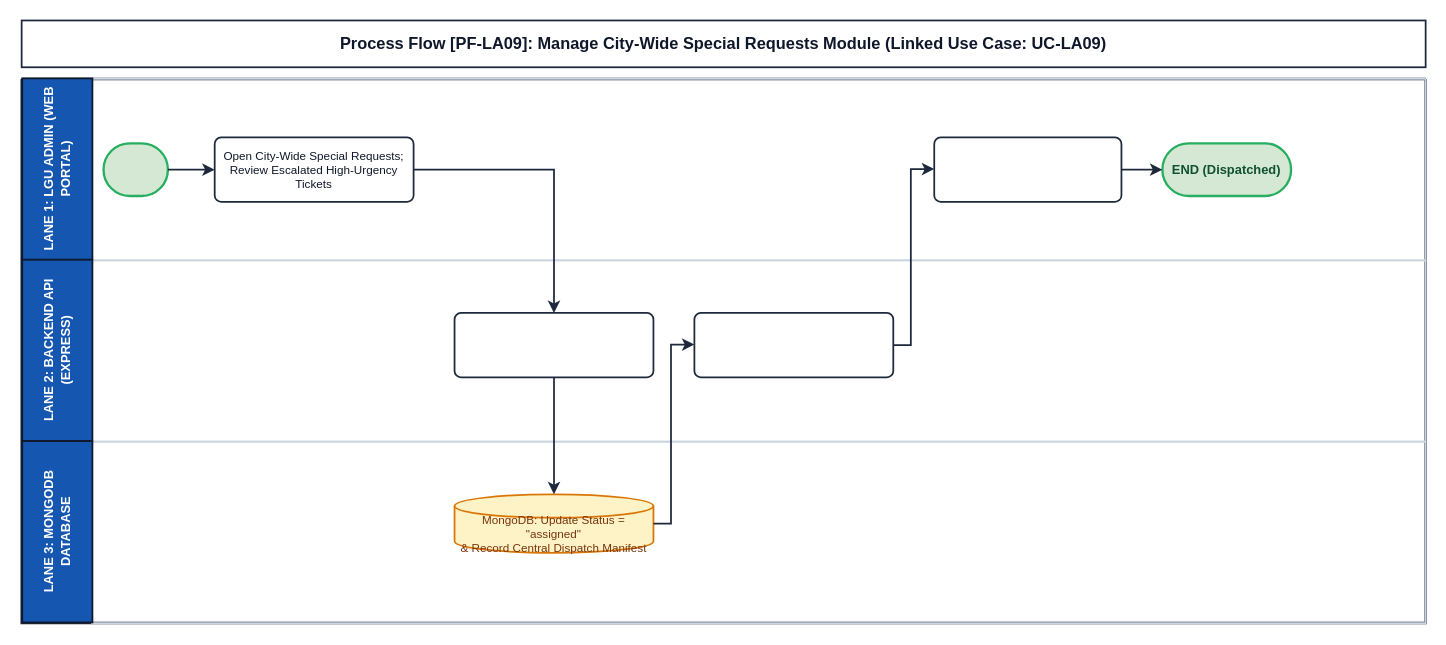
This 1446x645 diagram has some shape labels left out. The centre of each missing label's shape, as x and y in pixels:
Dispatch Centralized Response Team PATCH /api/assistance-requests/:id/assign: point 553,345
Display Realtime Dispatch Status in City Command Center Map: point 1027,169
Socket.IO: Push Priority Dispatch Alert to Mobile Response Vehicle Units: point 793,345
START: point 135,169
